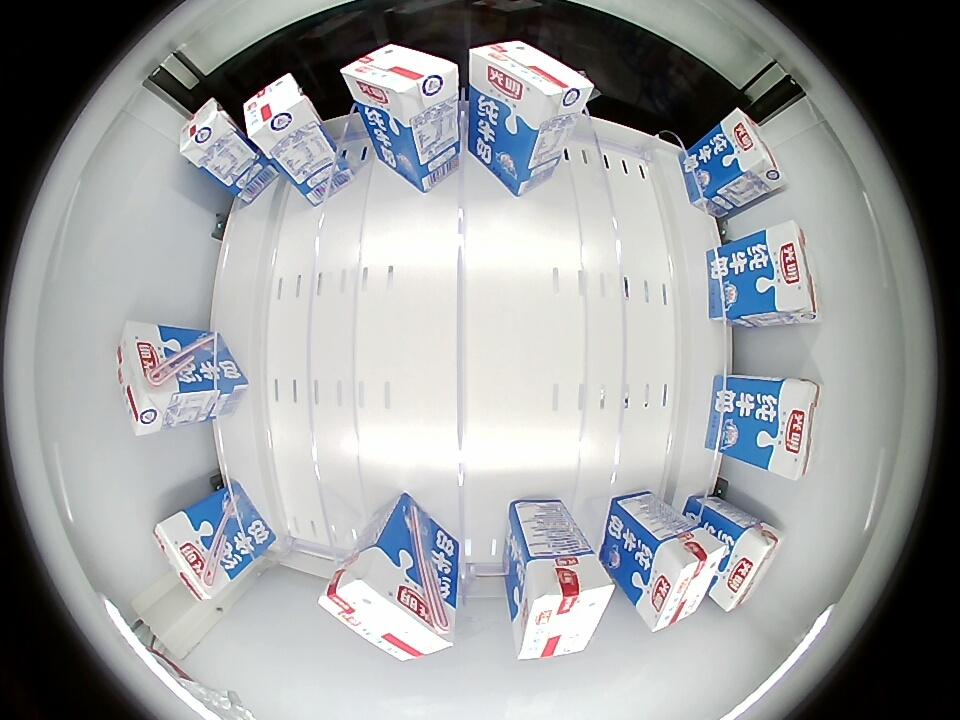niunai: (318, 553, 449, 661), (469, 41, 595, 129), (513, 550, 614, 659), (634, 526, 732, 632), (342, 43, 455, 127), (740, 220, 818, 326), (116, 321, 183, 436), (753, 377, 820, 481), (153, 508, 225, 602), (713, 108, 787, 196), (717, 518, 783, 612), (243, 72, 312, 150), (178, 98, 234, 169)
